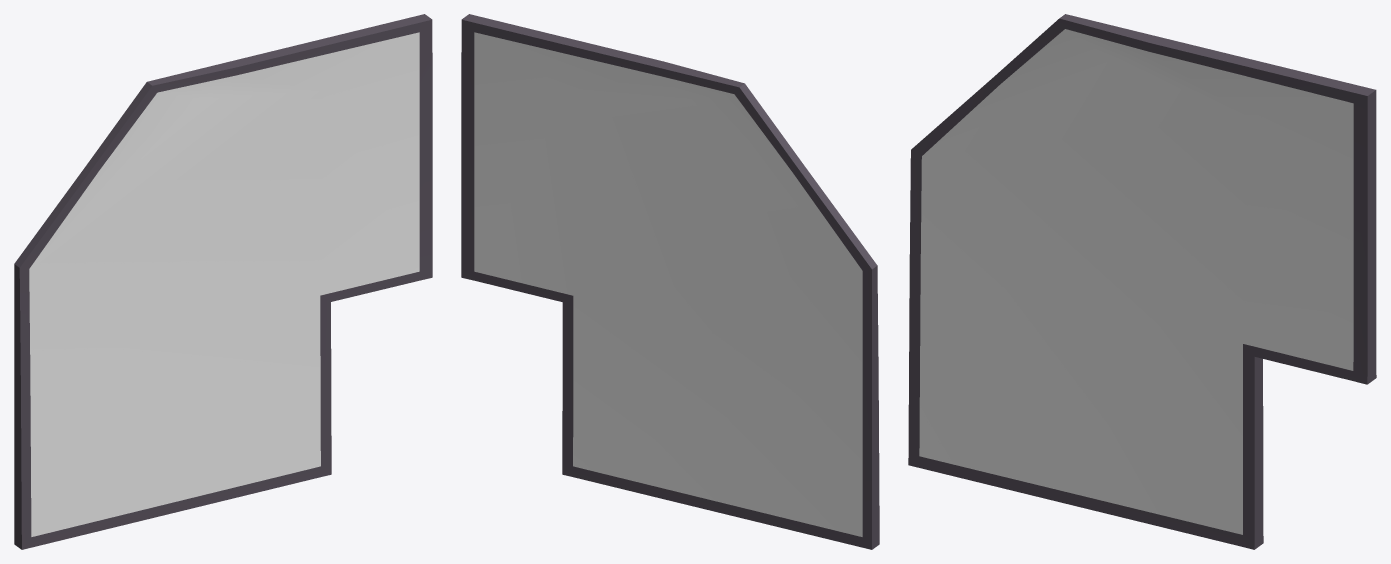
Rendered from obstacle1.fbx.
3 renders of one model, left to right at view 1: azimuth 30°, elevation 25°; view 2: azimuth 150°, elevation 25°; view 3: azimuth 330°, elevation 25°, orthographic. The views are drawn at different scales.
Visible parts, largest first — view 1: obstacle.001; view 2: obstacle.001; view 3: obstacle.001.
Part boxes in pixels (<box>): obstacle.001: <box>14,14,432,549</box>; obstacle.001: <box>461,14,879,549</box>; obstacle.001: <box>908,14,1376,549</box>.
Bounding box in the file's own units: 12.82 × 12.84 × 0.4433.
